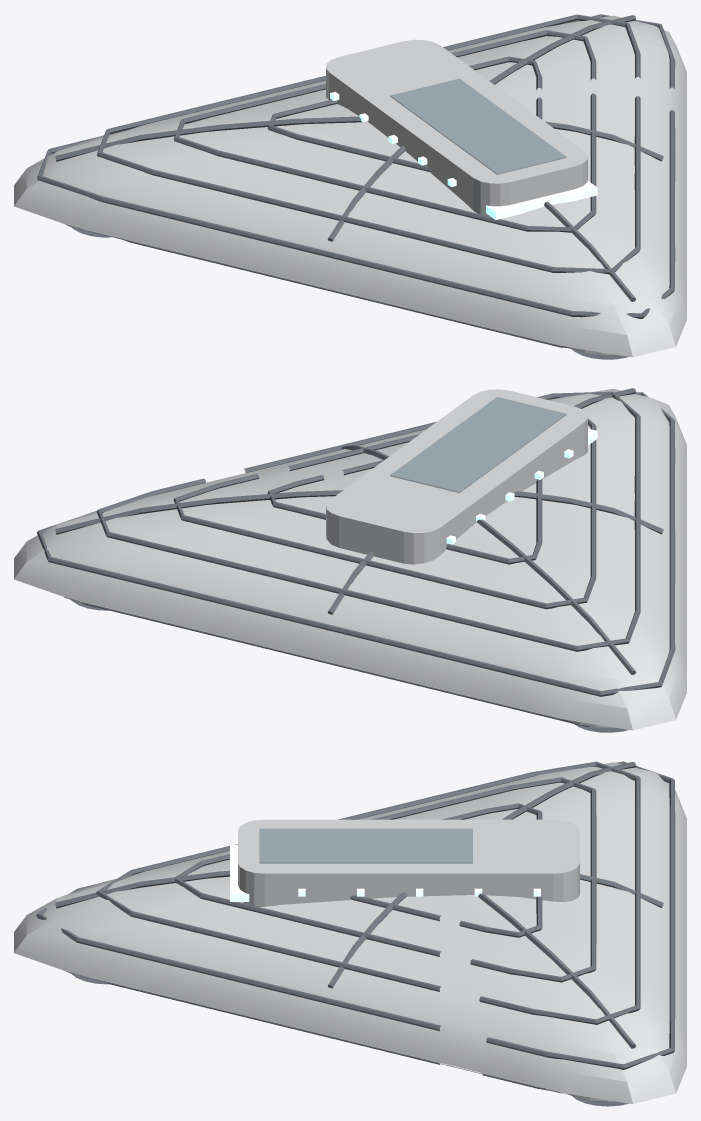
The model's file is ufo-crash-site-and-recovery-facility-triangular-craft-bd7acdcf__17324.glb.
The picture shows the model from 3 angles, top to bottom: view 1: azimuth 30°, elevation 25°; view 2: azimuth 150°, elevation 25°; view 3: azimuth 270°, elevation 25°; orthographic projection.
Parts seen in each view (by area): view 1: triangular-craft; view 2: triangular-craft; view 3: triangular-craft.
Boxes of the visible parts, x1,y1,x2,y2 form: triangular-craft: (14,14,686,359); triangular-craft: (14,388,686,732); triangular-craft: (14,761,686,1106).
Bounding box in the file's own units: 14.3 × 2.63 × 12.59.
